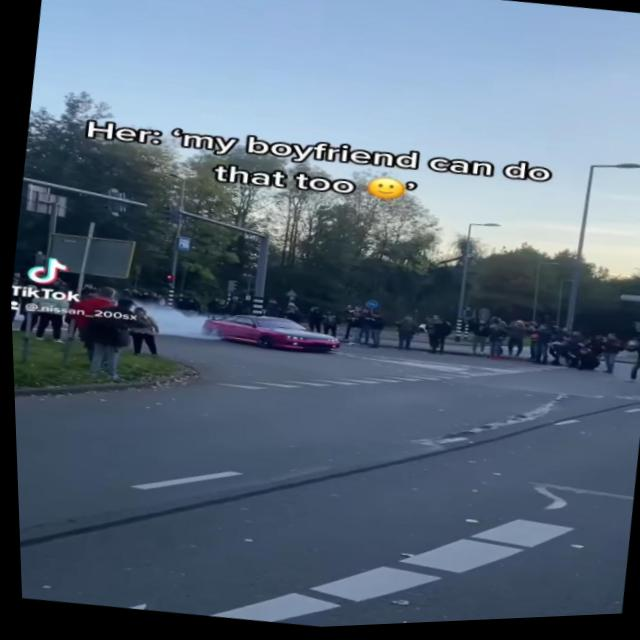vehicle: (200, 303, 344, 367)
